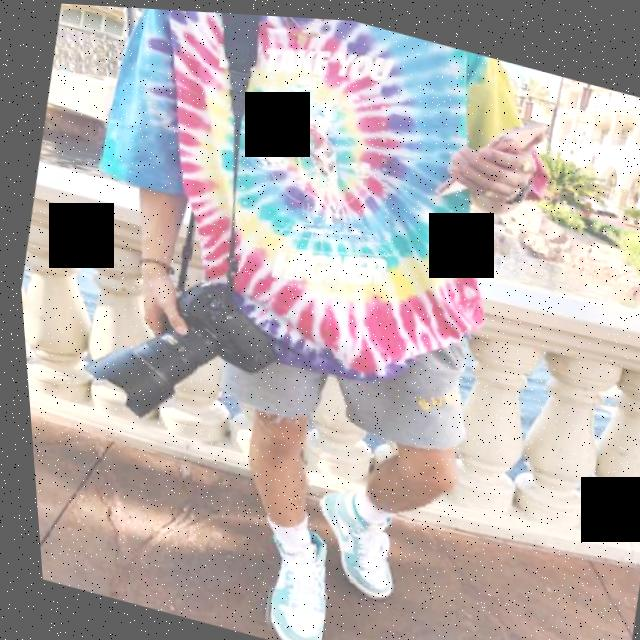shoe: (302, 475, 406, 600), (240, 525, 333, 640)
